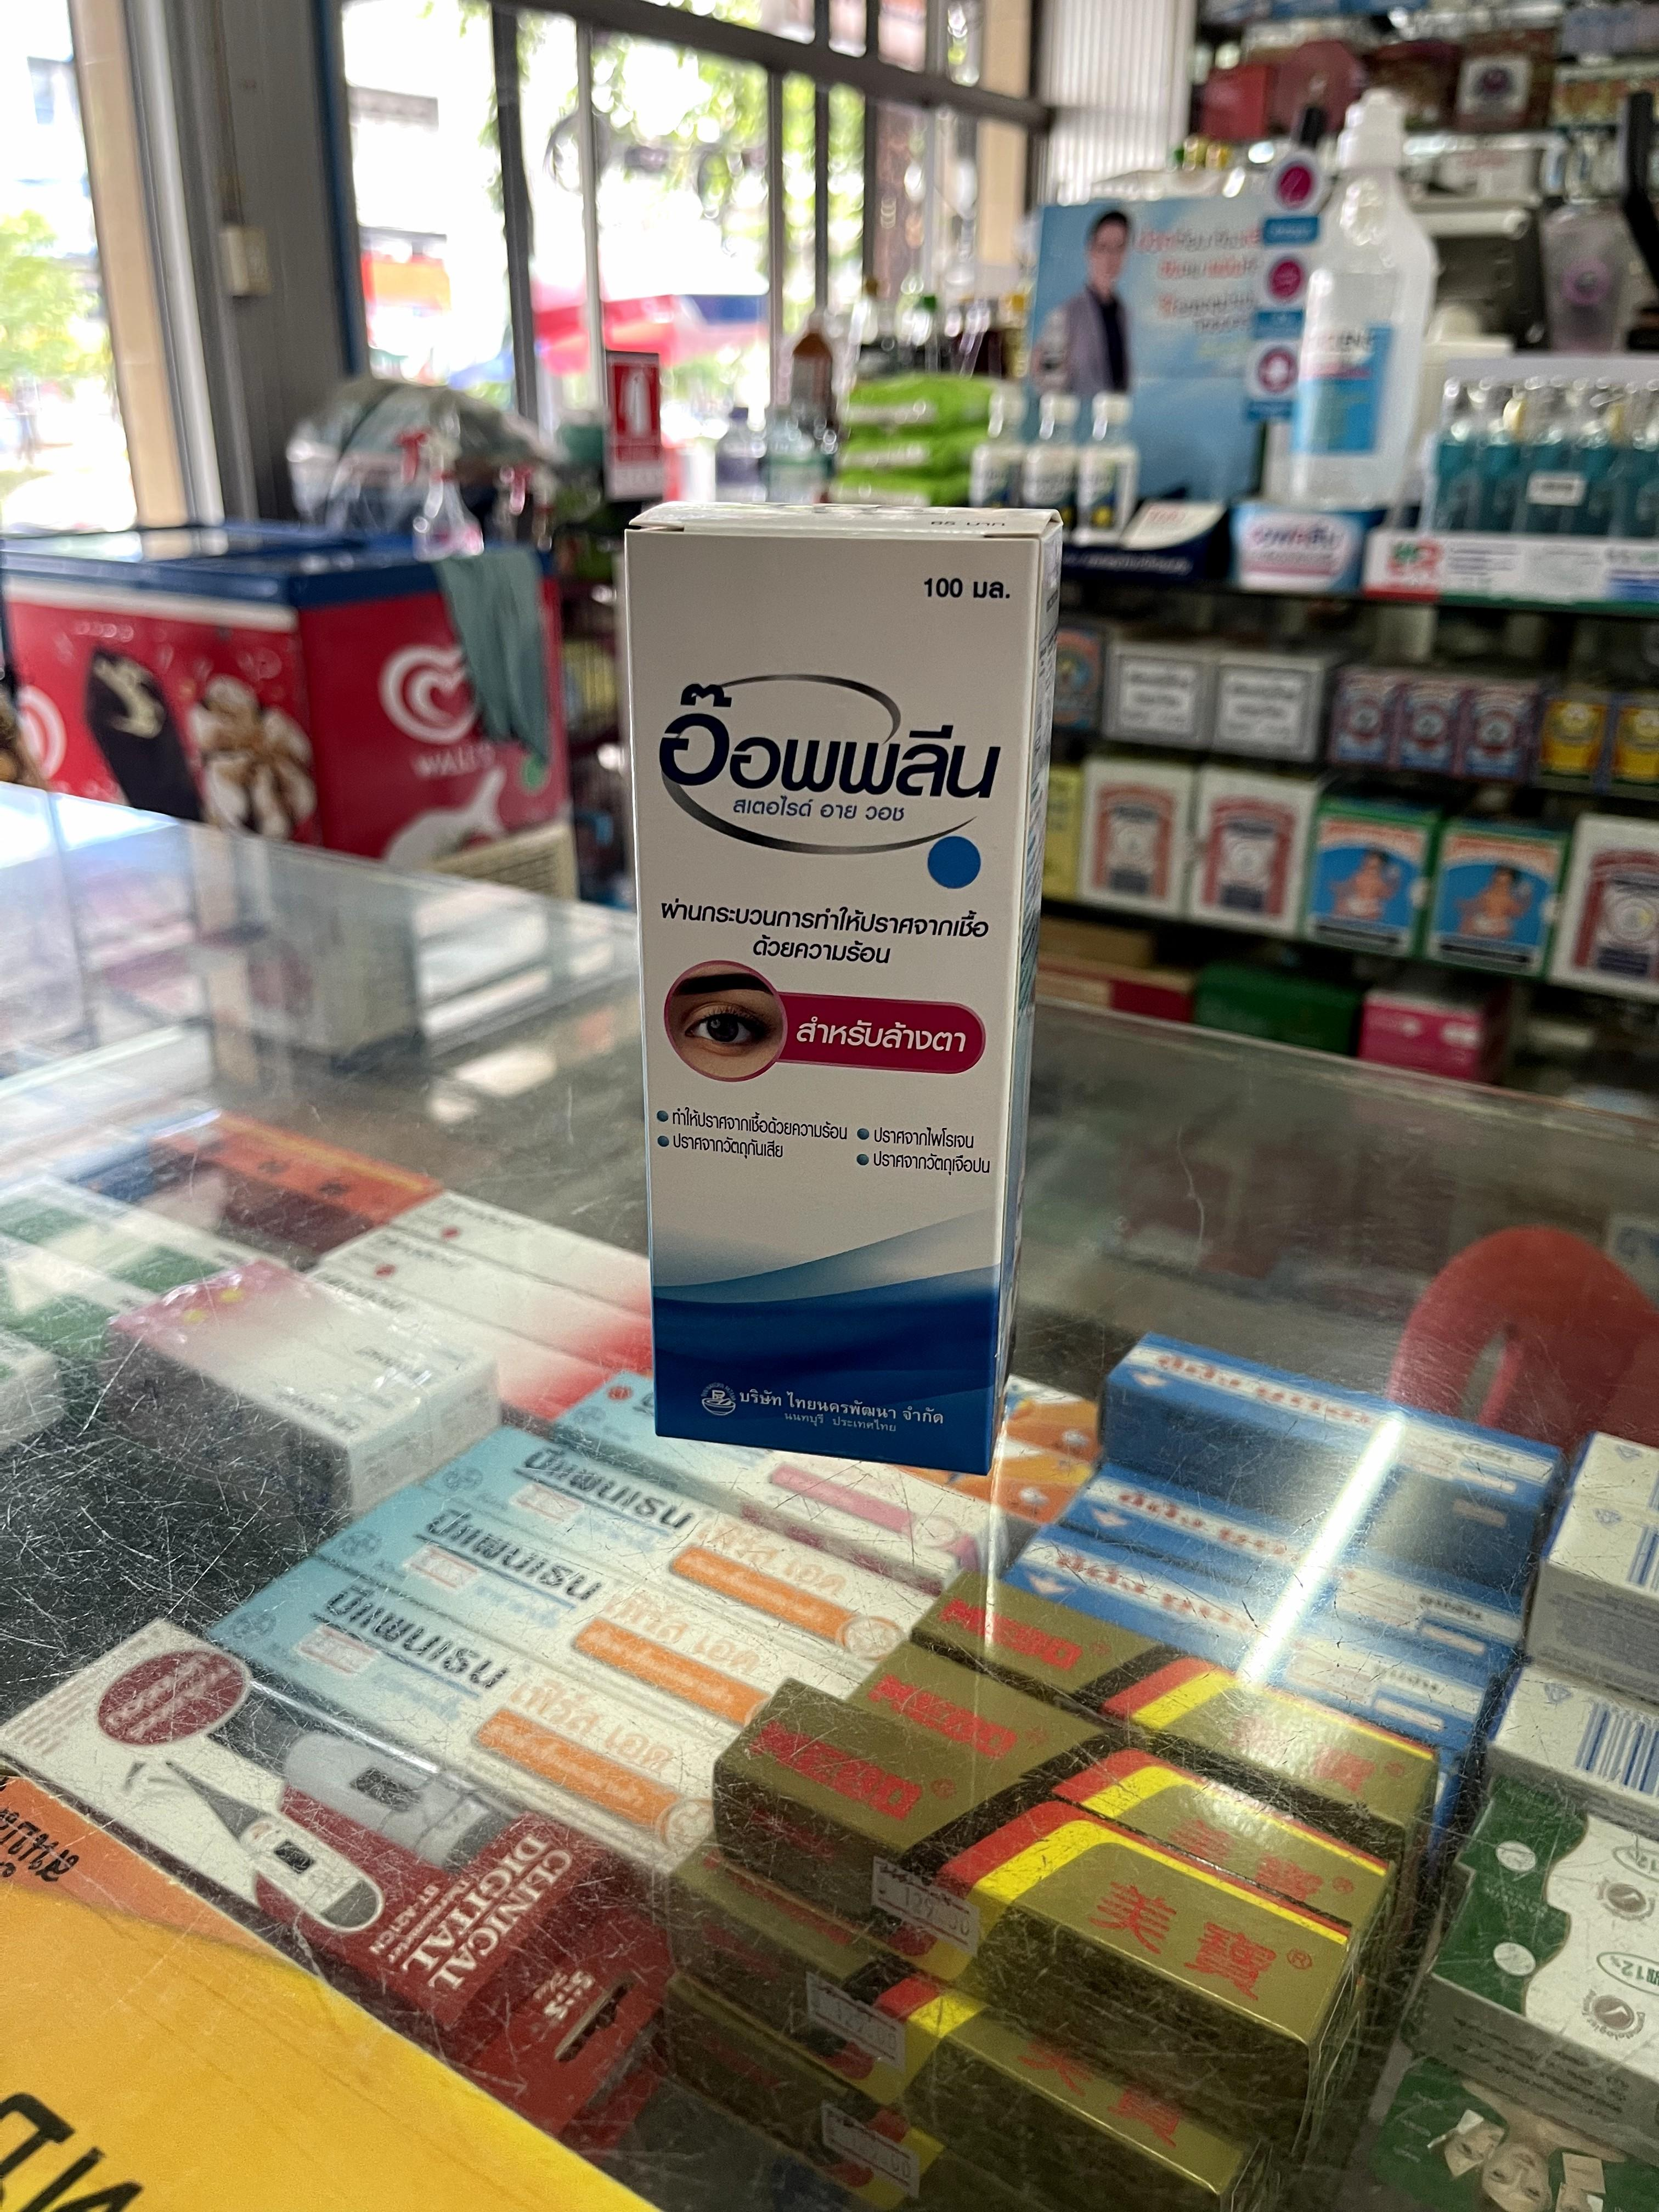Opplin: (622, 500, 1061, 1470)
